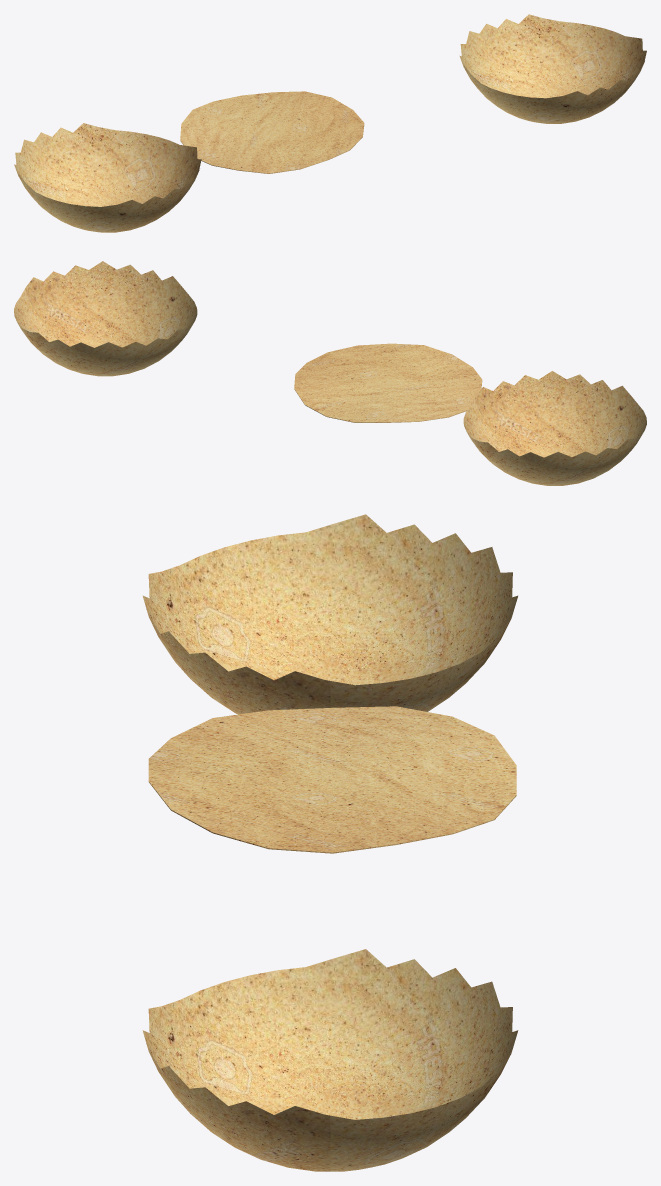
File: sandbox.FBX
The picture shows the model from 3 angles, top to bottom: view 1: azimuth 30°, elevation 25°; view 2: azimuth 150°, elevation 25°; view 3: azimuth 270°, elevation 25°; orthographic projection. The views are drawn at different scales.
Visible parts, largest first — view 1: GeoSphere001, GeoSphere002, Cylinder001; view 2: GeoSphere002, GeoSphere001, Cylinder001; view 3: GeoSphere002, GeoSphere001, Cylinder001.
Part boxes in pixels (x1,y1,x2,y2): GeoSphere001: [14, 123, 201, 232]; GeoSphere002: [459, 14, 646, 123]; Cylinder001: [180, 91, 364, 173]; GeoSphere002: [14, 261, 197, 376]; GeoSphere001: [463, 371, 646, 485]; Cylinder001: [294, 343, 482, 422]; GeoSphere002: [142, 949, 518, 1171]; GeoSphere001: [143, 514, 517, 714]; Cylinder001: [148, 706, 516, 853].
Size of the model in its own units: 156 by 16.05 by 42.02.
